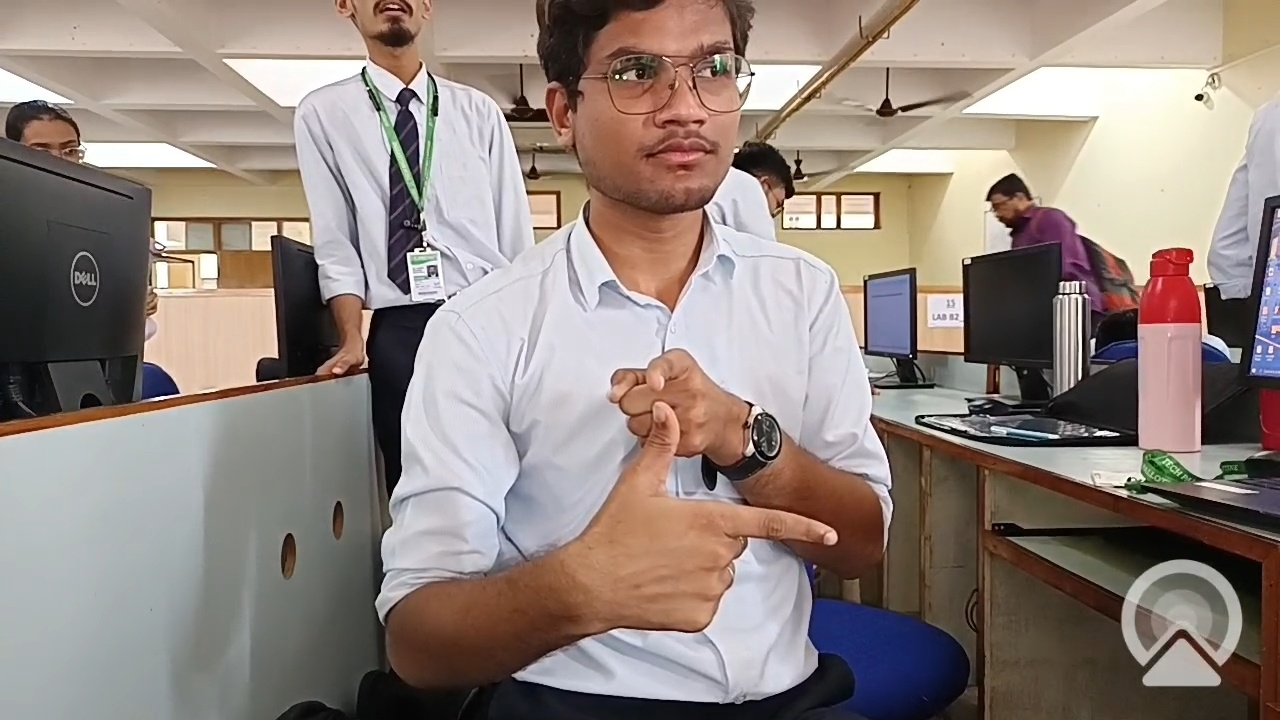J: (543, 324, 848, 674)
